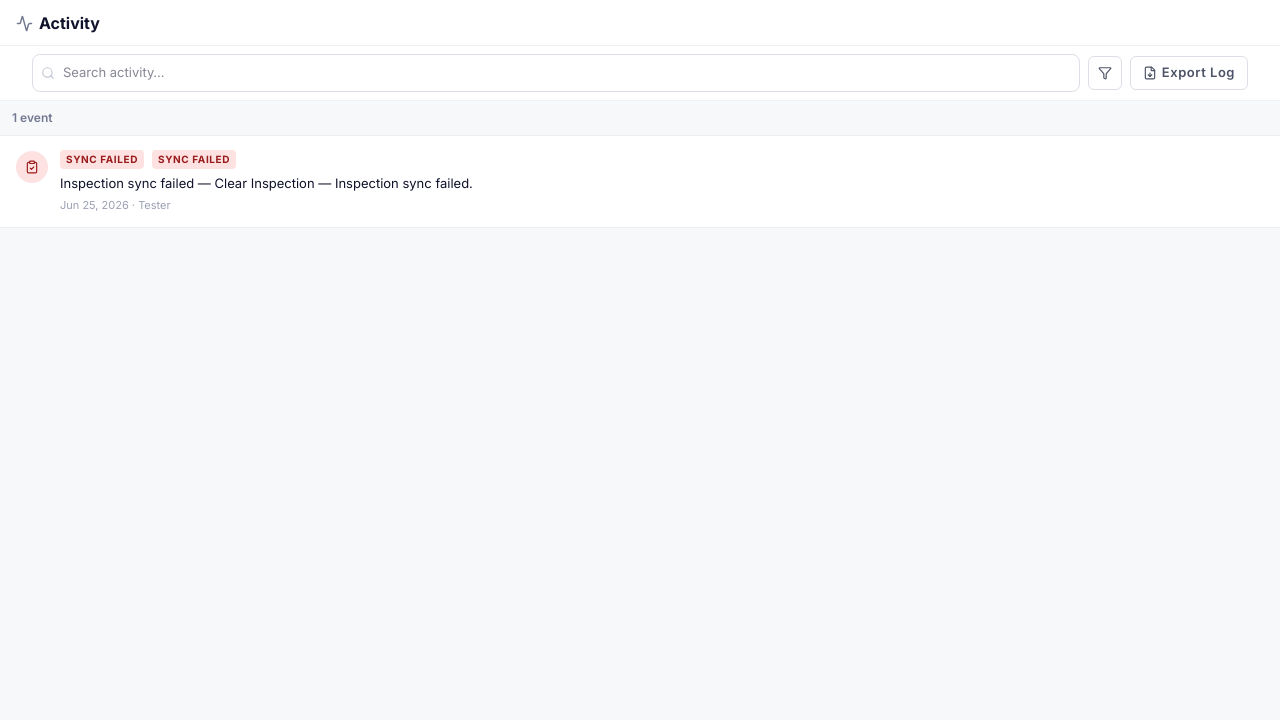
Test: ActivityLogClient › opens sync error detail modal when an INSPECTION_SYNC_FAILED card is clicked
This screenshot has width=1280, height=720.
Expected: the text "Sync failed" is shown, [152,150,236,169]
What coordinates should you click on to do the following:
click the button with aria-label "View offline sync error details"
I would click on:
 (32, 167)
Its box is [0,136,1279,228].
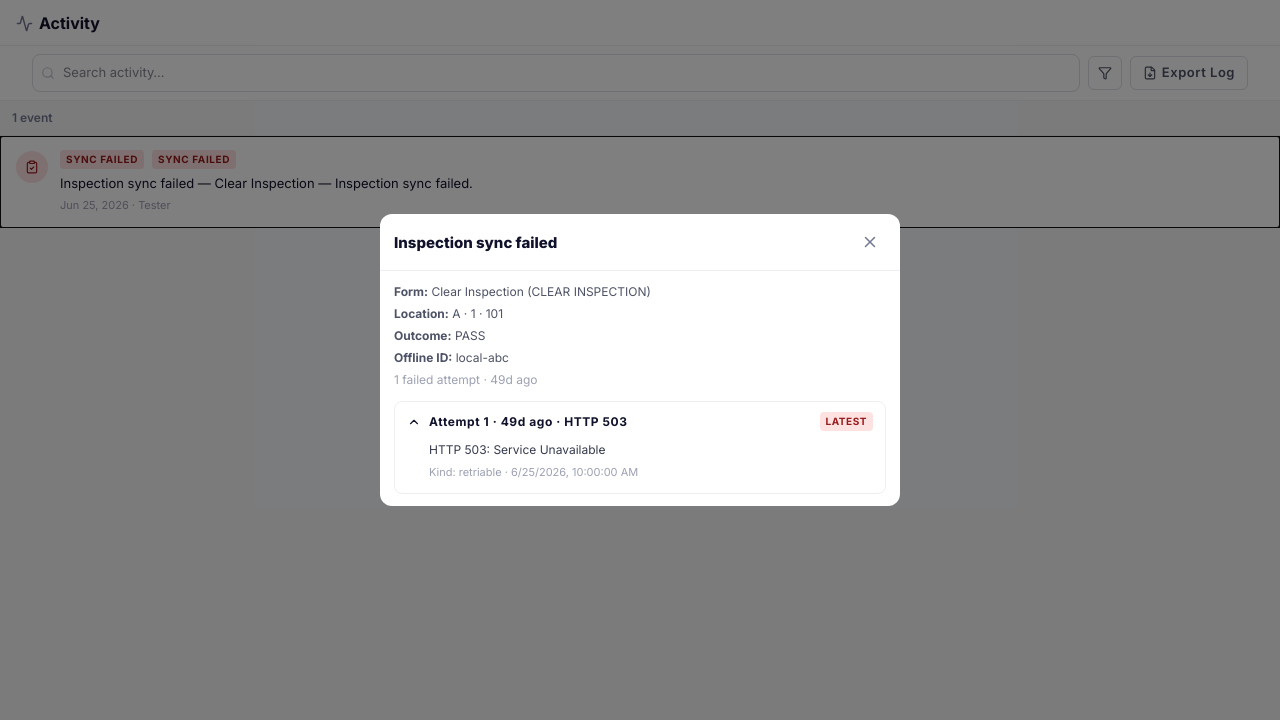
Result: the heading "Inspection sync failed" is shown at [394,233,557,252]
Result: the text "HTTP 503: Service Unavailable" is shown at [429,442,606,457]
